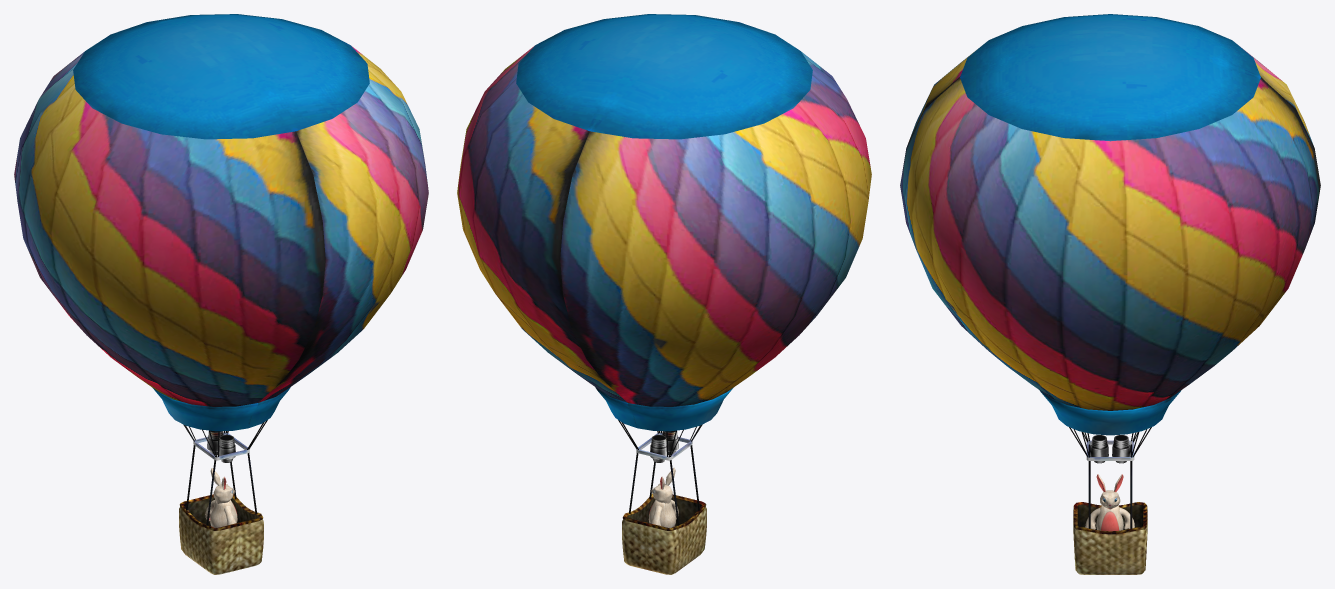
The model's file is bunny.glb.
3 views of the same model, side by side, from view 1: azimuth 30°, elevation 25°; view 2: azimuth 150°, elevation 25°; view 3: azimuth 270°, elevation 25° (orthographic).
Parts seen in each view (by area): view 1: bunny; view 2: bunny; view 3: bunny.
Part boxes in pixels (x1,y1,x2,y2): bunny: (14, 14, 428, 574); bunny: (457, 14, 871, 574); bunny: (900, 14, 1320, 574).
Size of the model in its own units: 32.72 by 45 by 32.72.
3 materials, 3 textured.
